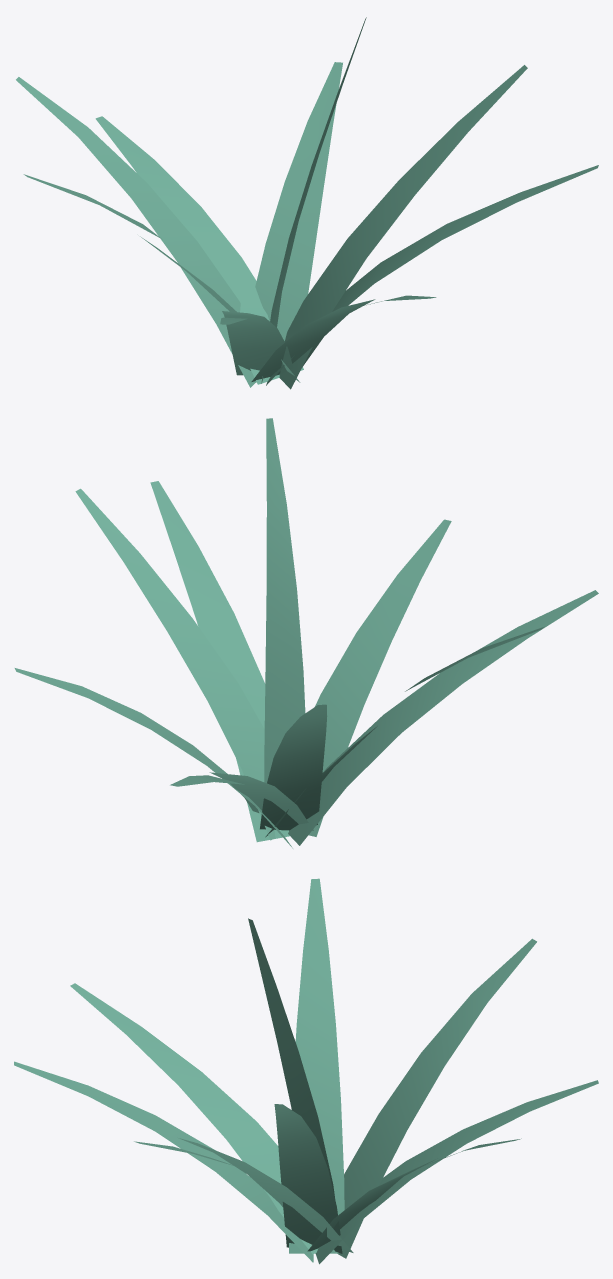
Rendered from SM_Fern.glb.
3 renders of one model, top to bottom at view 1: azimuth 30°, elevation 25°; view 2: azimuth 150°, elevation 25°; view 3: azimuth 270°, elevation 25°, orthographic. The views are drawn at different scales.
Visible parts, largest first — view 1: SM_Fern; view 2: SM_Fern; view 3: SM_Fern.
Boxes of the visible parts, x1,y1,x2,y2 form: SM_Fern: (16, 17, 598, 389); SM_Fern: (14, 418, 598, 848); SM_Fern: (14, 878, 598, 1264).
Size of the model in its own units: 0.8549 by 0.6357 by 0.9323.
